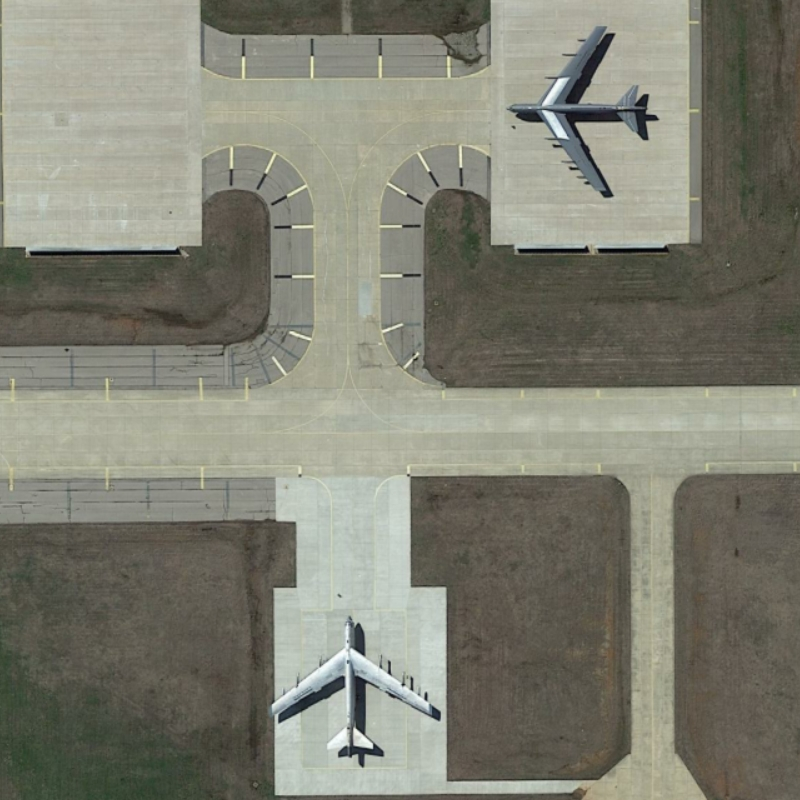A8: (496, 18, 665, 204), (264, 605, 446, 766)
